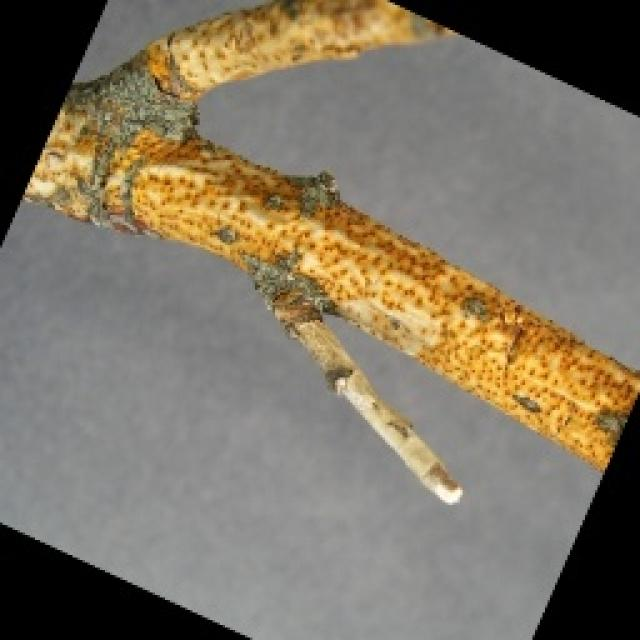Golden_canker: (22, 10, 640, 498)
